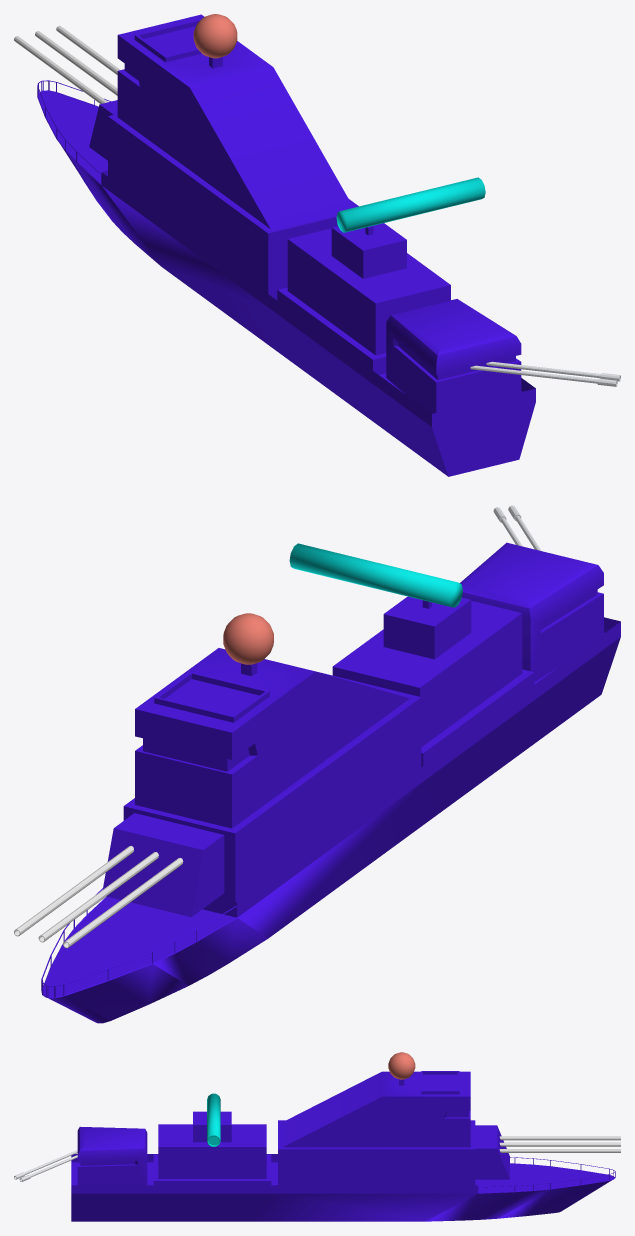
The model's file is SHIP_3.fbx.
3 views of the same model, one above another, from view 1: azimuth 30°, elevation 25°; view 2: azimuth 150°, elevation 25°; view 3: azimuth 270°, elevation 25° (orthographic). The views are drawn at different scales.
Parts seen in each view (by area): view 1: Cube.001; view 2: Cube.001; view 3: Cube.001.
Boxes of the visible parts, x1,y1,x2,y2 form: Cube.001: (14,14,620,476); Cube.001: (14,505,620,1023); Cube.001: (14,1052,620,1221).
Bounding box in the file's own units: 1693 × 2517 × 8790.
